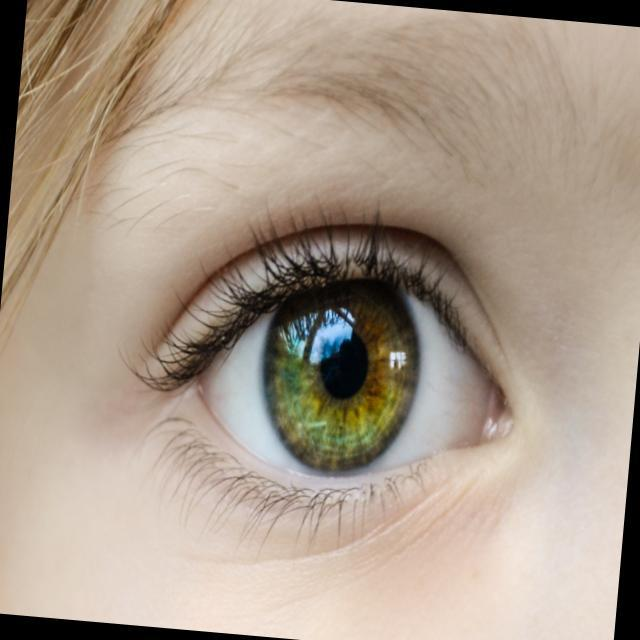Normal: (129, 210, 546, 544)
